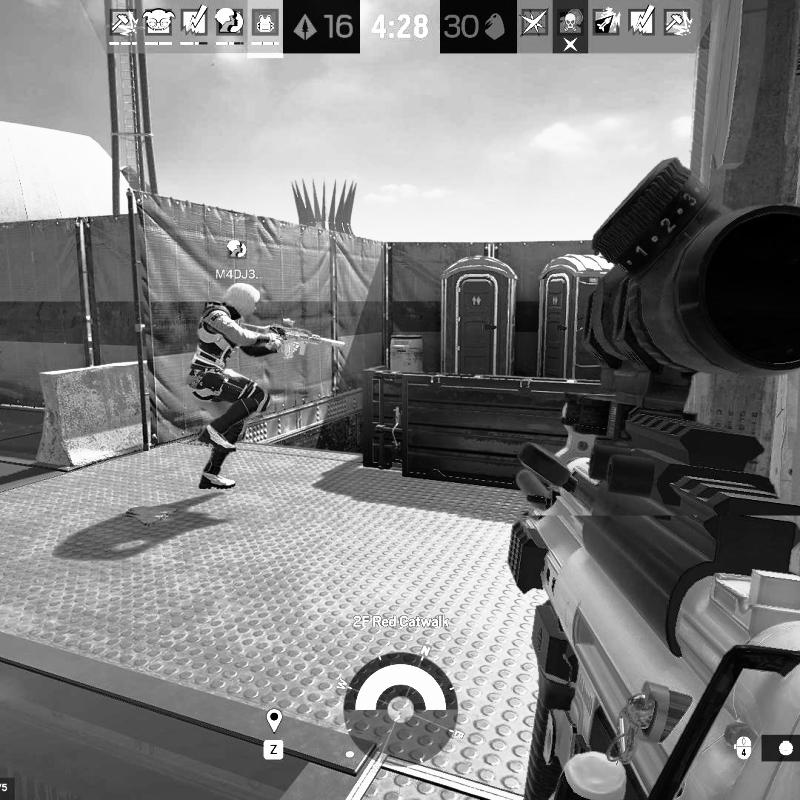Character: (187, 281, 348, 494)
Friend_label: (214, 237, 258, 281)
Head: (225, 283, 261, 320)
